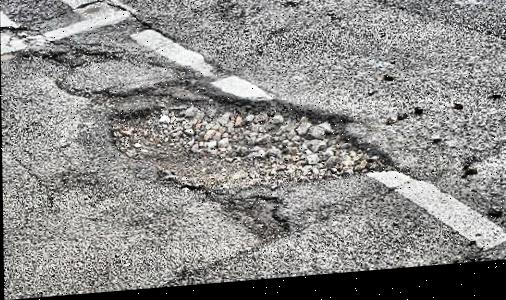pothole: (106, 73, 398, 206), (229, 195, 292, 250), (19, 40, 117, 74)
